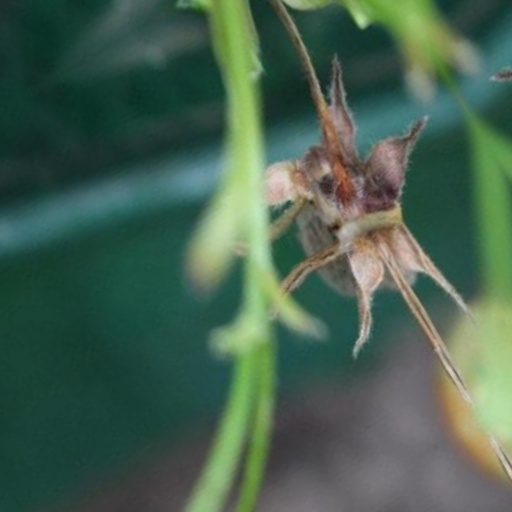Gray Mold: (259, 41, 480, 491)
